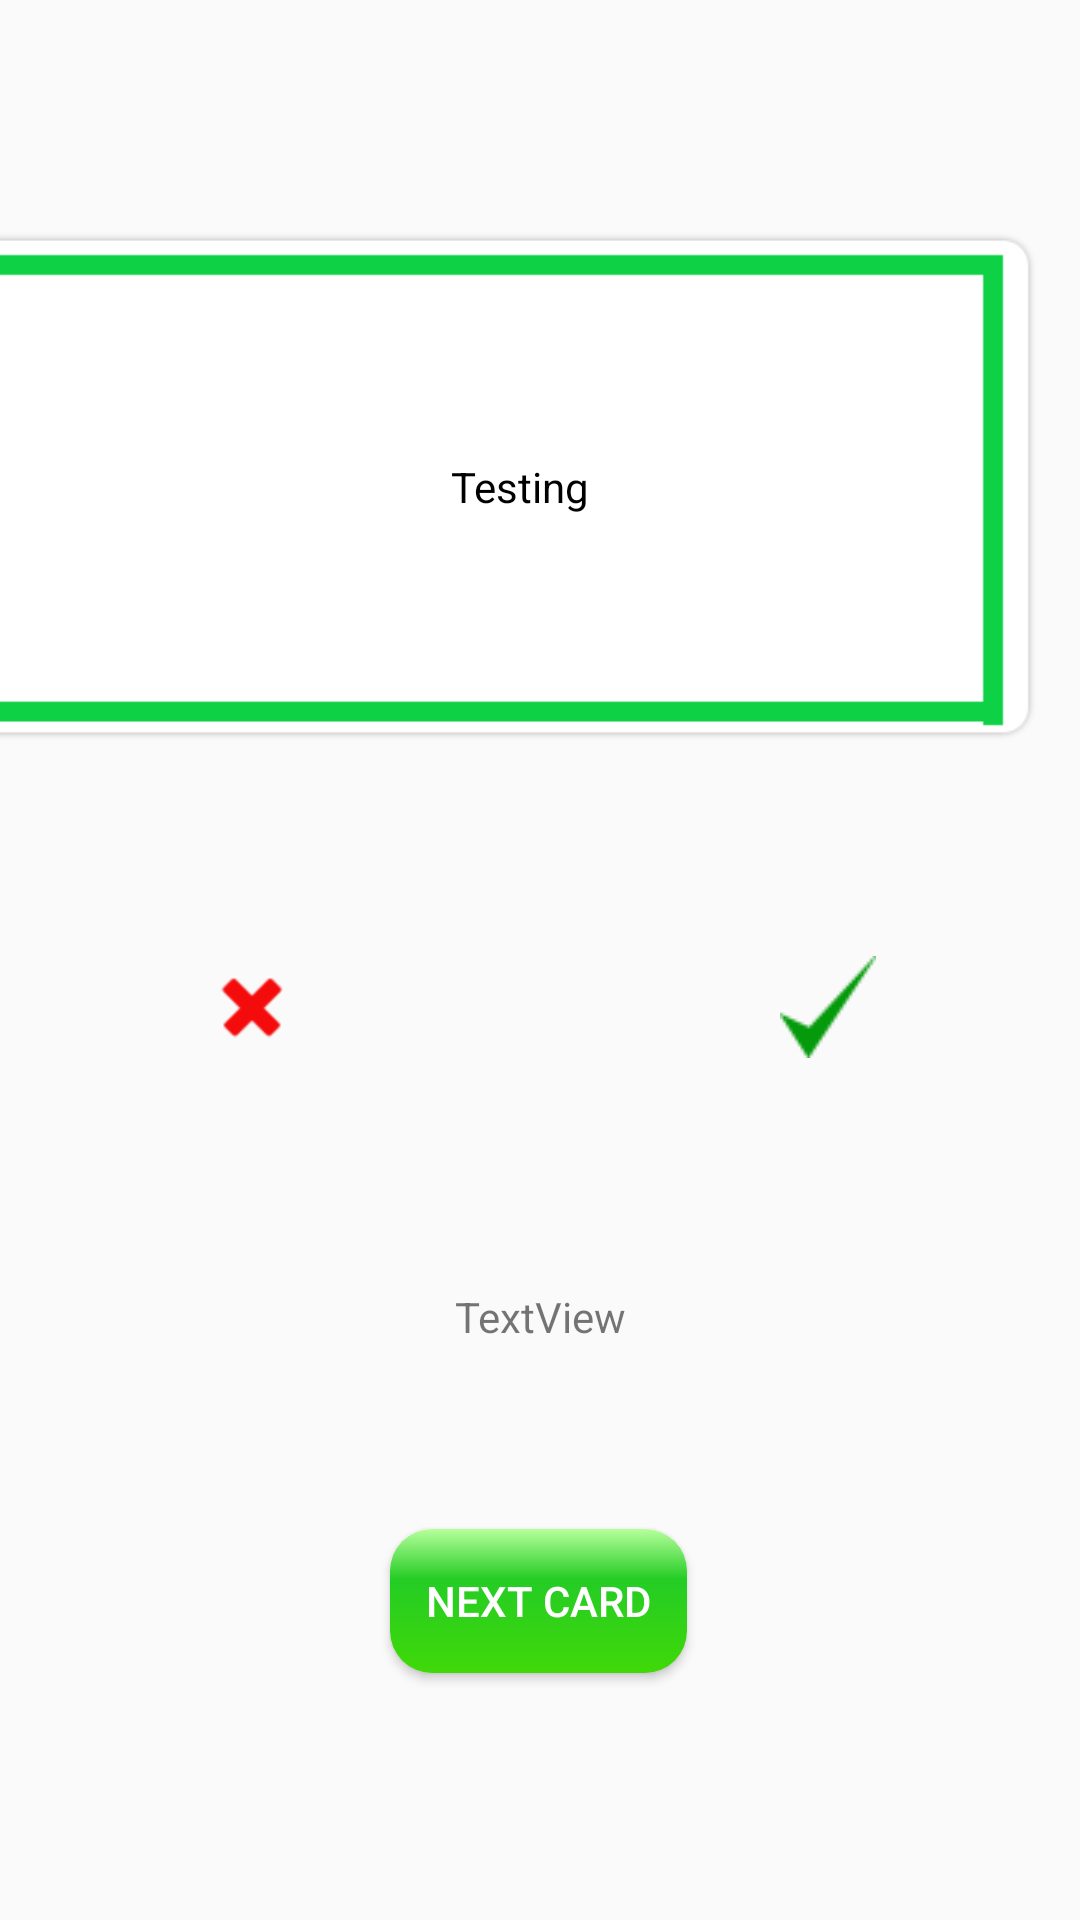

Named icons in this screenshot (1080*1920) and their bounding boxes, rect(x1, y1, x2, y2):
check: rect(780, 956, 876, 1058)
delete: rect(221, 978, 283, 1037)
